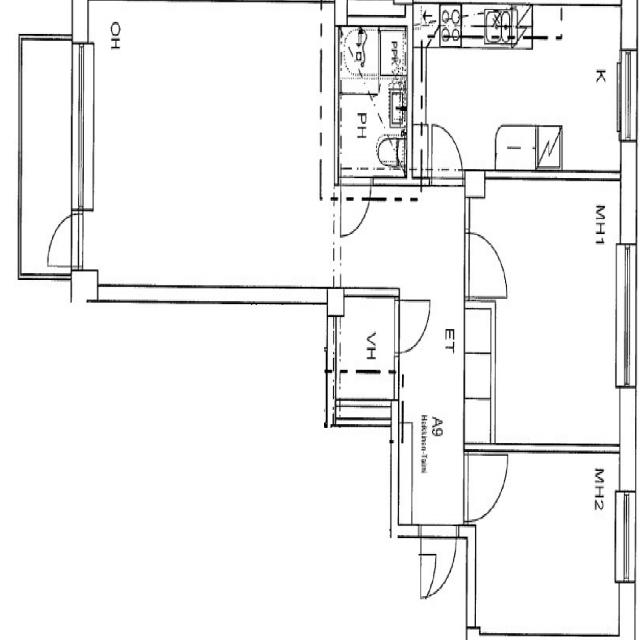door: (36, 208, 88, 267), (464, 455, 508, 524), (419, 528, 458, 604), (464, 234, 507, 298), (430, 125, 463, 187), (339, 180, 371, 239), (395, 300, 430, 353)
